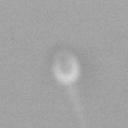normal: (53, 85, 101, 128)
